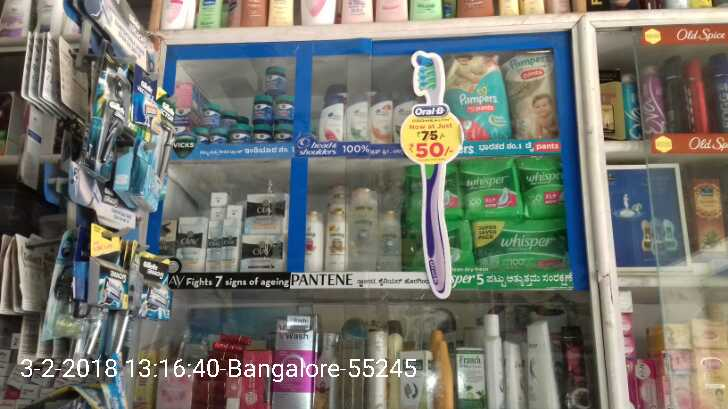beauty: (347, 181, 376, 274), (238, 233, 285, 276), (241, 194, 289, 233), (174, 217, 207, 273), (324, 198, 347, 276), (377, 208, 403, 275), (368, 91, 394, 146), (318, 94, 345, 146), (348, 98, 370, 142)
pharmacy: (448, 53, 512, 140), (463, 224, 570, 272), (459, 156, 526, 220), (514, 161, 567, 217), (264, 65, 290, 95), (273, 95, 295, 124), (254, 91, 273, 122), (199, 102, 221, 127)
